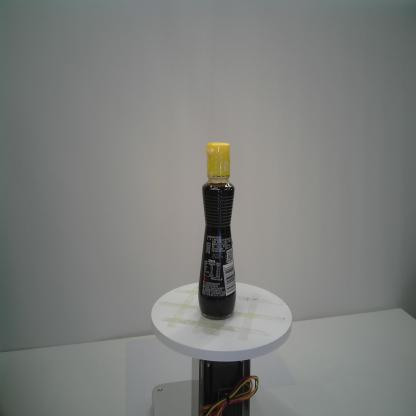Seasoner: (196, 139, 238, 320)
